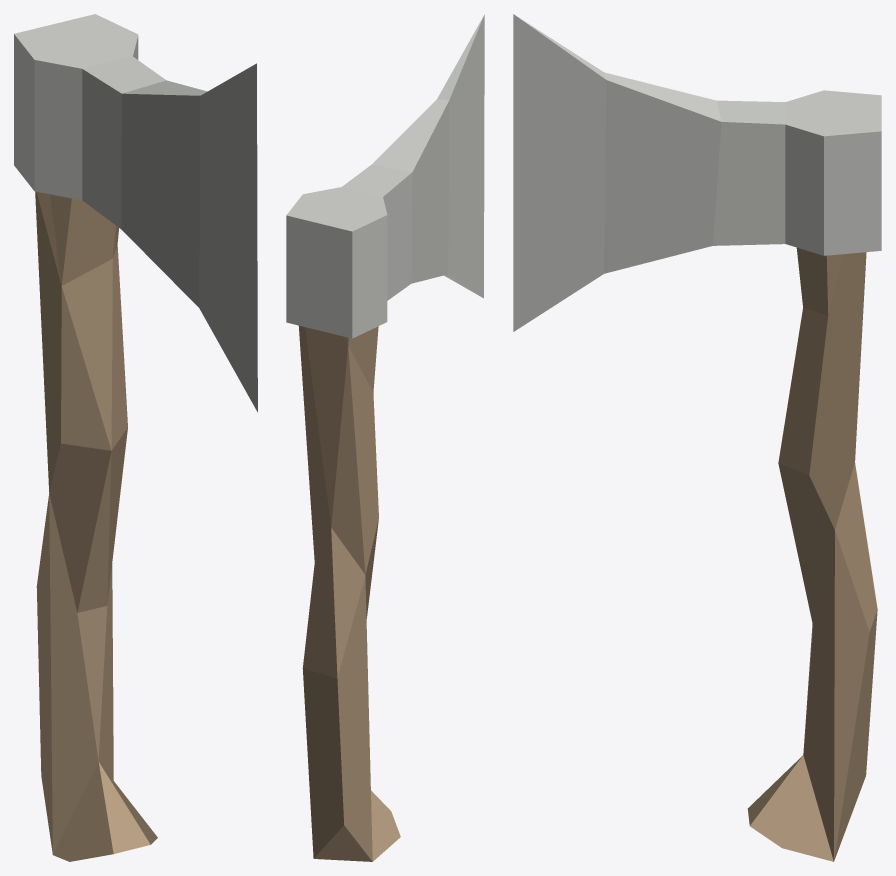
Rendered from StoneAxe.glb.
3 views of the same model, side by side, from view 1: azimuth 30°, elevation 25°; view 2: azimuth 150°, elevation 25°; view 3: azimuth 270°, elevation 25° (orthographic). The views are drawn at different scales.
Visible parts, largest first — view 1: Cylinder.007, Cube; view 2: Cylinder.007, Cube; view 3: Cube, Cylinder.007.
Part boxes in pixels (x1,y1,x2,y2): Cylinder.007: (35, 191, 157, 861); Cube: (14, 14, 257, 412); Cylinder.007: (299, 325, 400, 861); Cube: (286, 14, 484, 338); Cube: (513, 14, 881, 331); Cylinder.007: (747, 247, 877, 861).
Bounding box in the file's own units: 0.1135 × 0.9572 × 0.3835.
